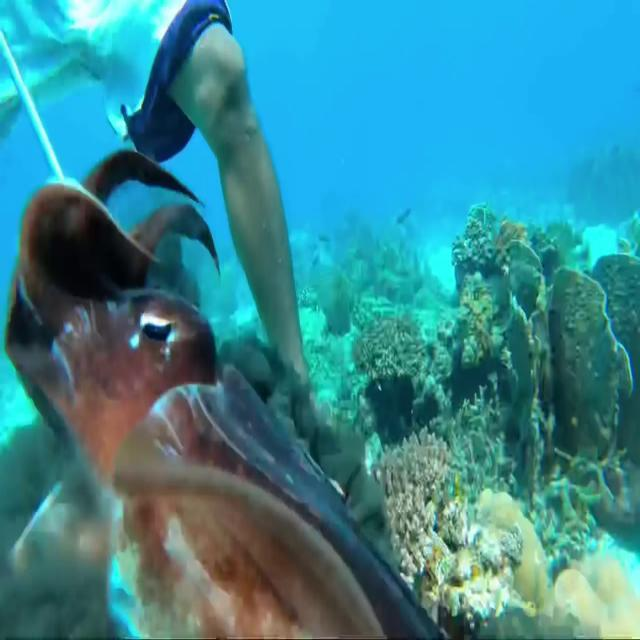octopus: (0, 143, 446, 640)
